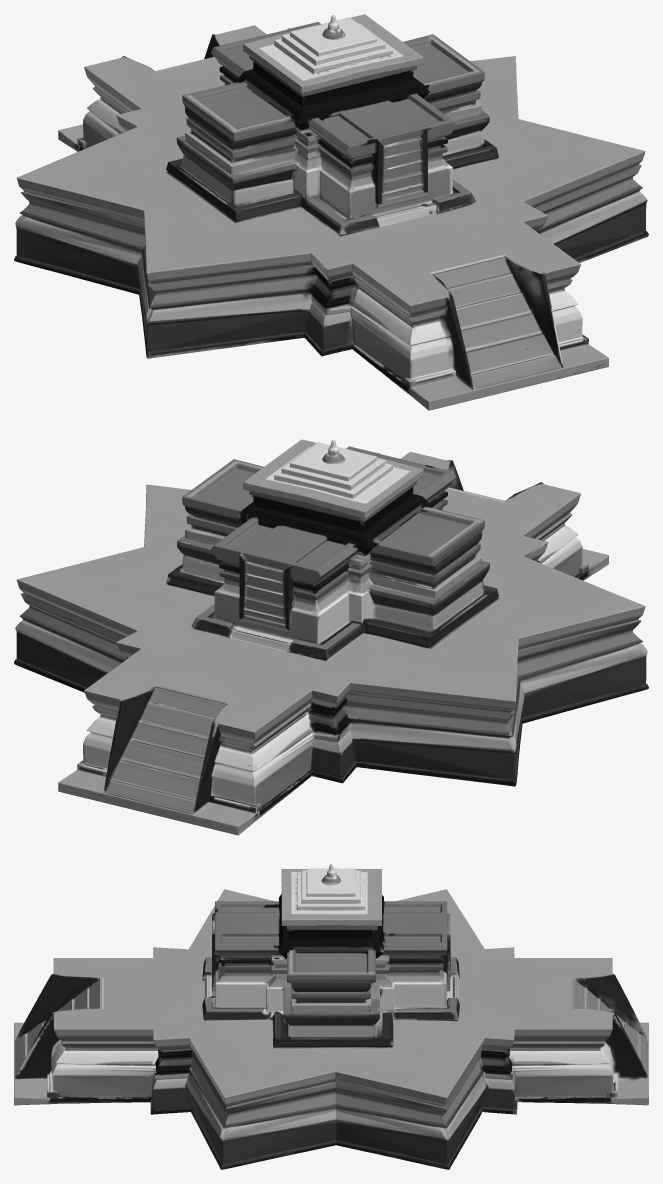
Rendered from muaro_jambi.glb.
3 views of the same model, one above another, from view 1: azimuth 30°, elevation 25°; view 2: azimuth 150°, elevation 25°; view 3: azimuth 270°, elevation 25° (orthographic). The views are drawn at different scales.
Parts seen in each view (by area): view 1: convert; view 2: convert; view 3: convert.
Part boxes in pixels (left/top/right/bottom): convert: left=14, top=14, right=648, bottom=410; convert: left=14, top=439, right=648, bottom=835; convert: left=14, top=864, right=648, bottom=1169.
Size of the model in its own units: 0.8555 by 0.3867 by 1.09.
Materials: 1 (1 with a texture image).
